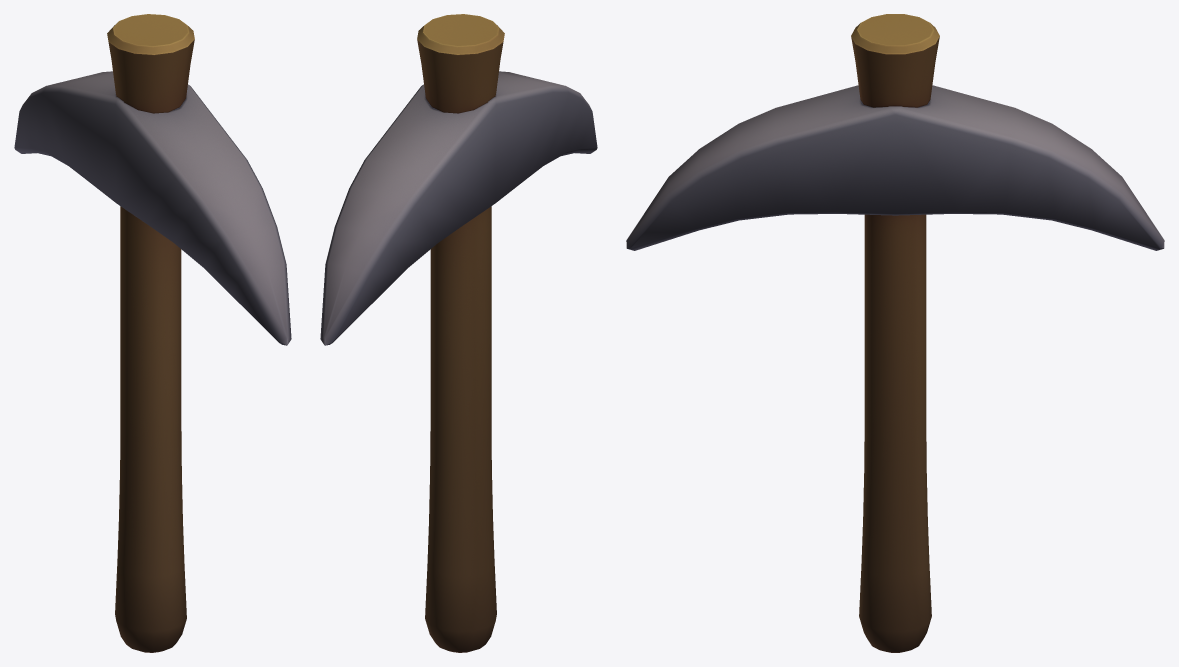
Rendered from Eater.fbx.
The picture shows the model from 3 angles, left to right: view 1: azimuth 30°, elevation 25°; view 2: azimuth 150°, elevation 25°; view 3: azimuth 270°, elevation 25°; orthographic projection.
Parts seen in each view (by area): view 1: Cube.001; view 2: Cube.001; view 3: Cube.001.
Boxes of the visible parts, box(x1,y1,x2,y2) form: Cube.001: box(14, 14, 291, 652); Cube.001: box(320, 14, 597, 652); Cube.001: box(626, 14, 1164, 652).
Size of the model in its own units: 27.96 by 214 by 169.
Materials: 1 (1 with a texture image).
